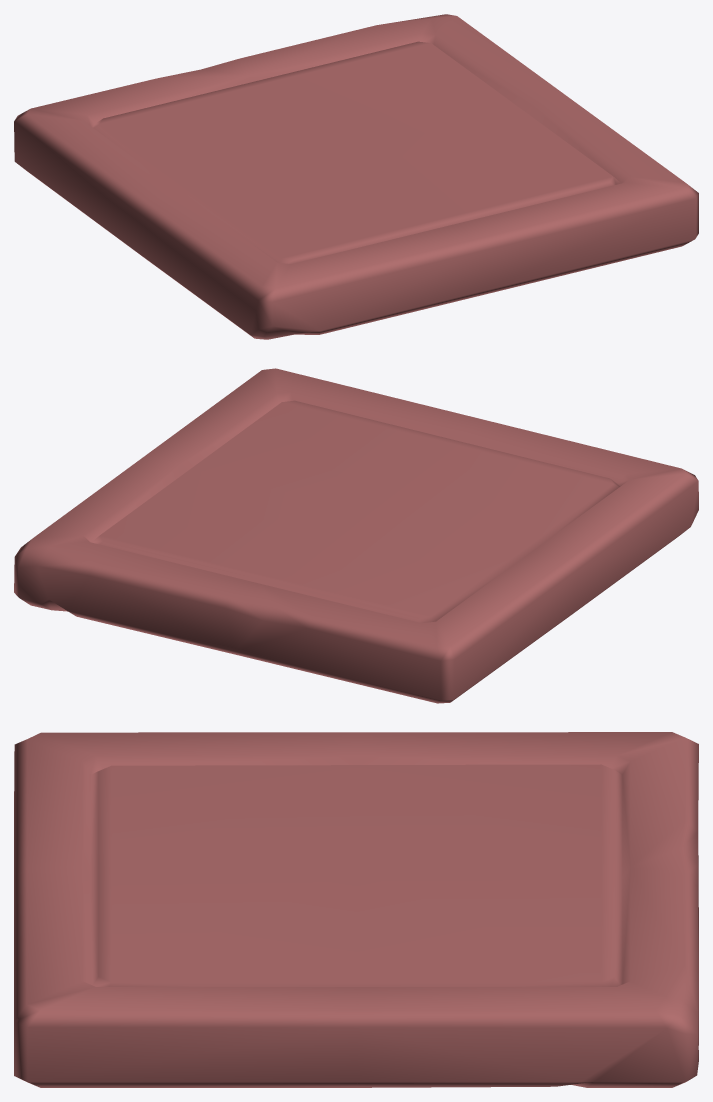
File: PlatformShort.fbx
3 renders of one model, top to bottom at view 1: azimuth 30°, elevation 25°; view 2: azimuth 150°, elevation 25°; view 3: azimuth 270°, elevation 25°, orthographic. The views are drawn at different scales.
Parts seen in each view (by area): view 1: PlatformShort; view 2: PlatformShort; view 3: PlatformShort.
Part boxes in pixels (box(x1,y1,x2,y2)): PlatformShort: box(14, 14, 698, 339); PlatformShort: box(14, 368, 698, 703); PlatformShort: box(14, 732, 698, 1087).
Bounding box in the file's own units: 400 × 50 × 400.
